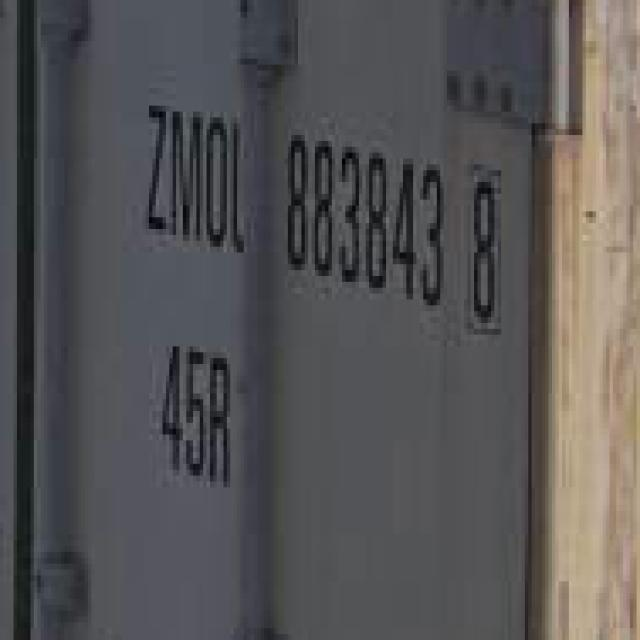dv: (459, 152, 517, 346)
owner: (134, 87, 250, 274)
serial: (275, 116, 447, 326)
size: (134, 328, 258, 508)
